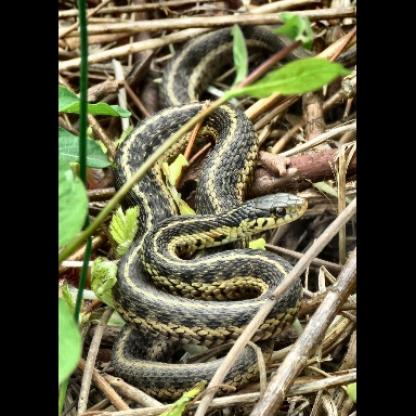Snake: (106, 25, 316, 396)
